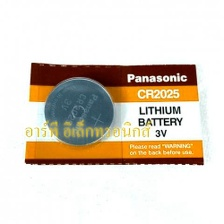battery: (42, 75, 115, 148)
book: (13, 47, 210, 173)
